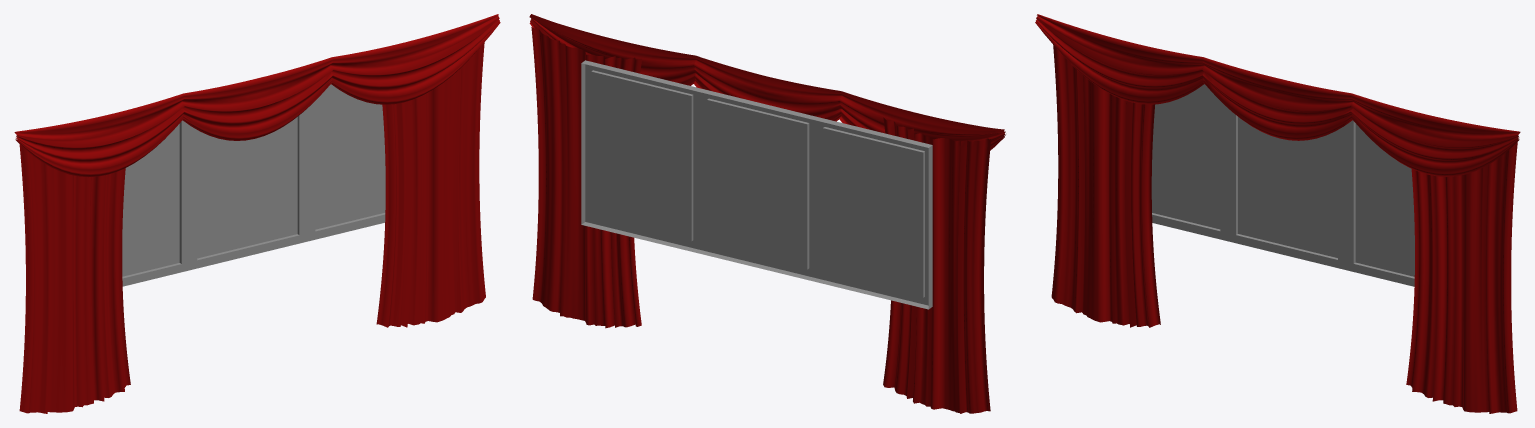
File: Curtains and Window Asset.FBX
3 views of the same model, side by side, from view 1: azimuth 30°, elevation 25°; view 2: azimuth 150°, elevation 25°; view 3: azimuth 330°, elevation 25° (orthographic).
Visible parts, largest first — view 1: Low Poly Curtain Sides, Low Poly Window, Low Poly Curtain Top; view 2: Low Poly Window, Low Poly Curtain Sides, Low Poly Curtain Top; view 3: Low Poly Curtain Sides, Low Poly Window, Low Poly Curtain Top.
Boxes of the visible parts, <box> form: Low Poly Curtain Sides: <box>19,42,485,413</box>; Low Poly Window: <box>122,84,385,286</box>; Low Poly Curtain Top: <box>14,14,500,177</box>; Low Poly Window: <box>581,60,932,309</box>; Low Poly Curtain Sides: <box>531,27,991,413</box>; Low Poly Curtain Top: <box>529,14,1005,150</box>; Low Poly Curtain Sides: <box>1051,44,1517,413</box>; Low Poly Window: <box>1151,84,1414,286</box>; Low Poly Curtain Top: <box>1035,14,1520,176</box>.
Bounding box in the file's own units: 153 × 90.01 × 9.11.
